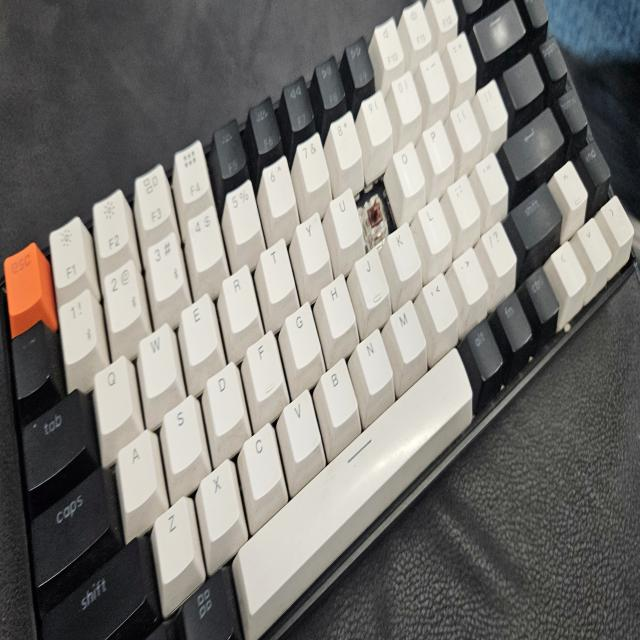C: (365, 194, 387, 232)
